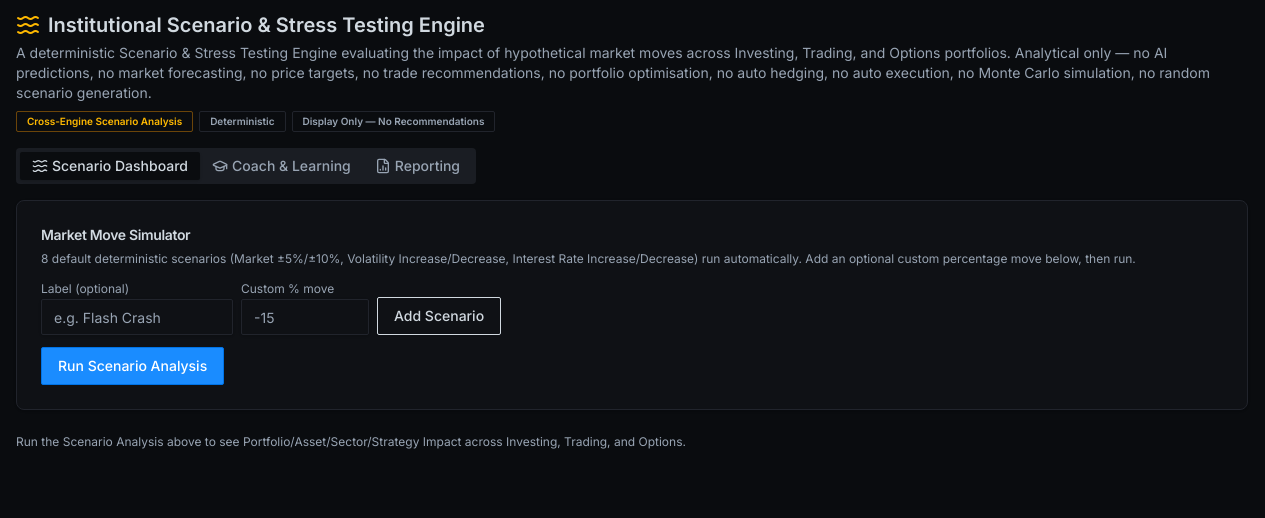
Test case: ScenarioEngine › removes a custom scenario before running
In the number field with test id "input-custom-scenario-pct": (305, 317) [241,299,369,335], type "10"
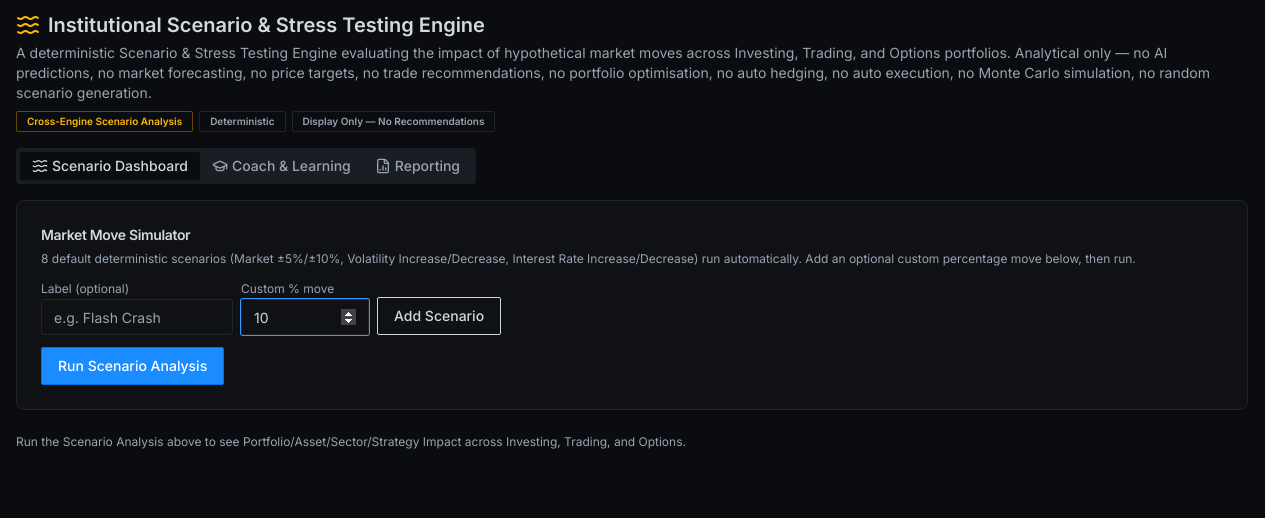
Click the button with test id "button-add-custom-scenario": (439, 316) [377,297,501,335]
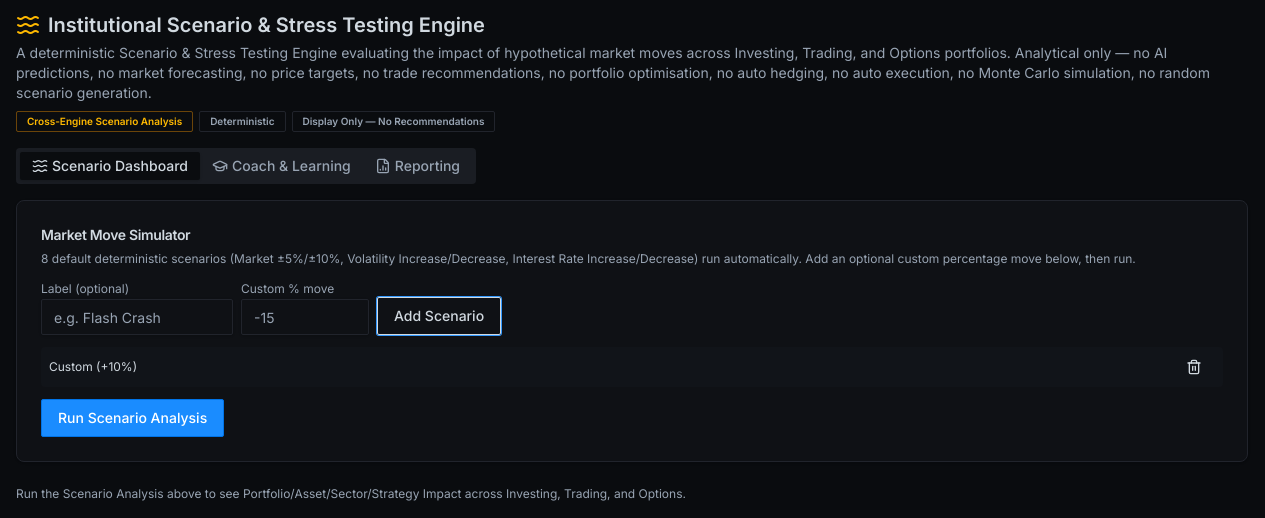
Check: the element with test id "custom-scenario-0" is shown, box [41,347,1223,387]
Click the button with test id "button-remove-custom-scenario-0": (1194, 367) [1173,351,1215,383]
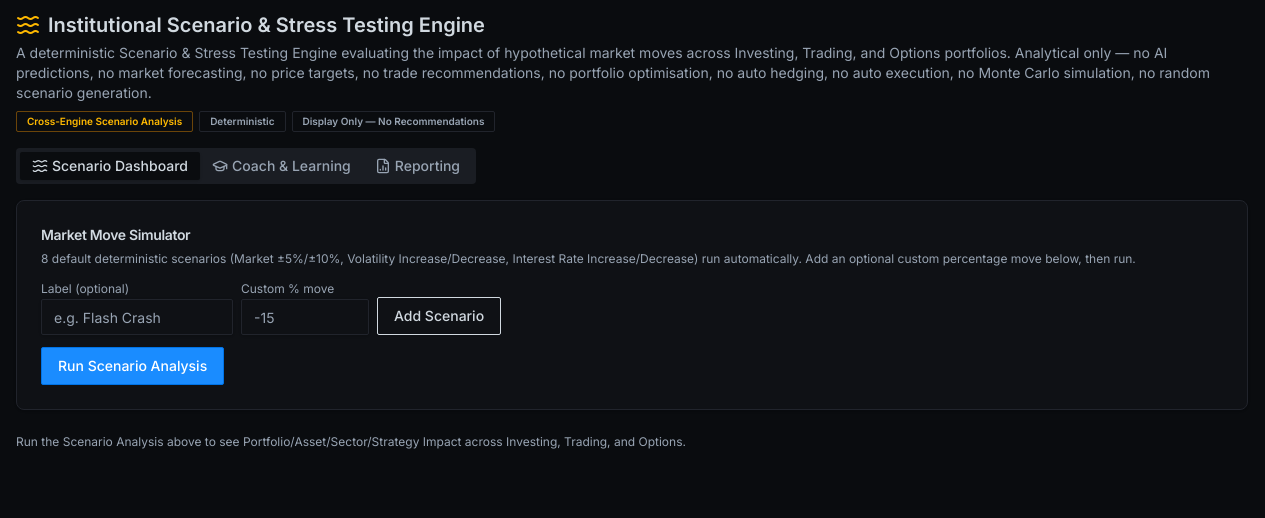
Check: the element with test id "custom-scenario-0" is gone
